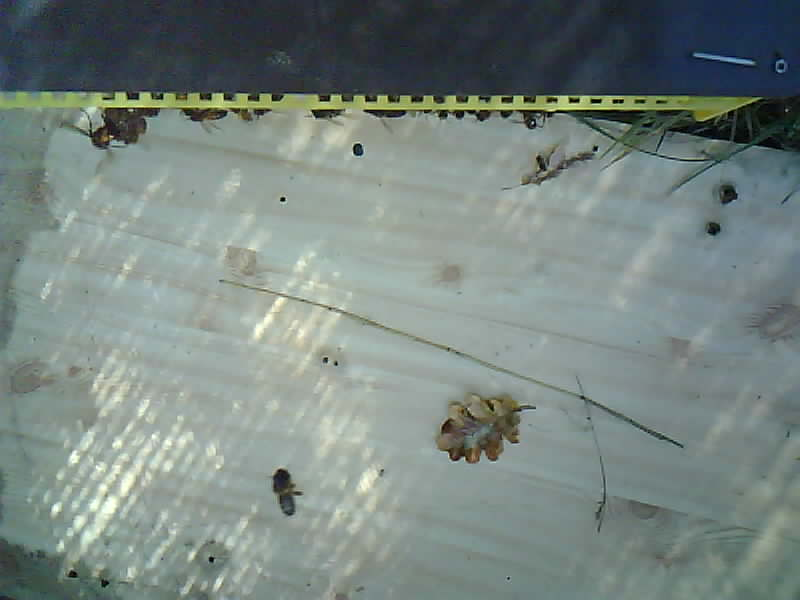bee: (271, 466, 304, 516)
hornet: (80, 117, 119, 158)
